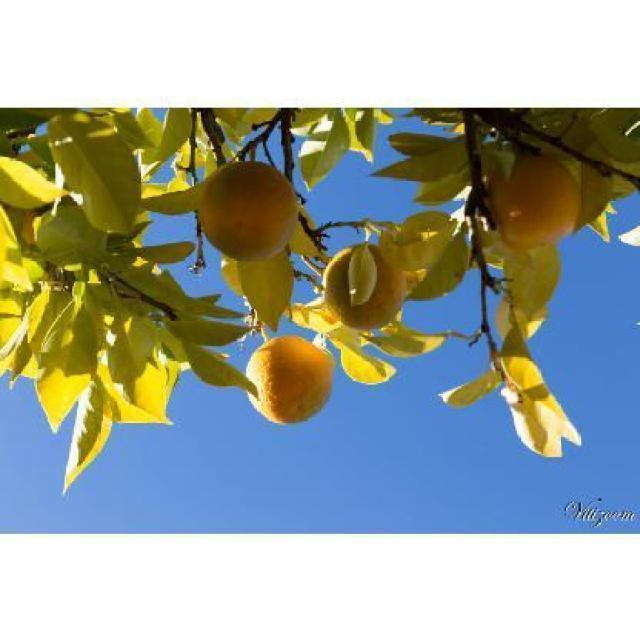Orange: (238, 328, 337, 420), (200, 157, 288, 256), (498, 150, 582, 247), (322, 247, 398, 320)
